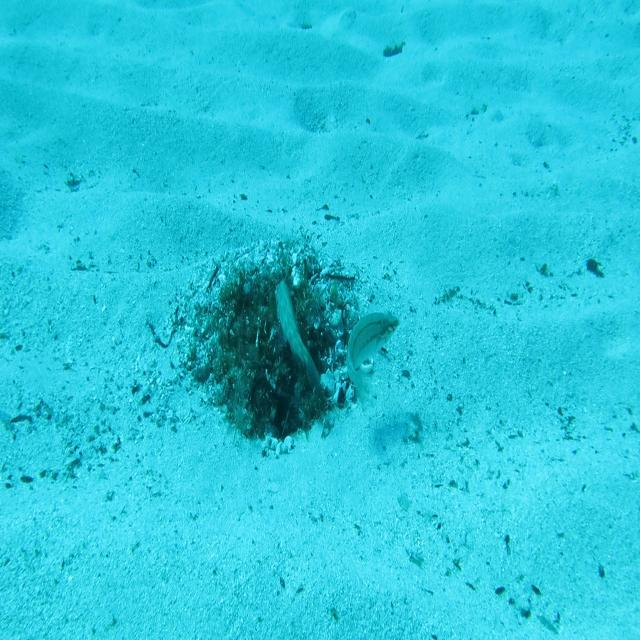FAN: (272, 275, 322, 398)
core_nest: (246, 288, 304, 326)
female: (344, 309, 401, 413)
nest: (164, 219, 379, 473)
vegetation: (382, 42, 406, 61)
